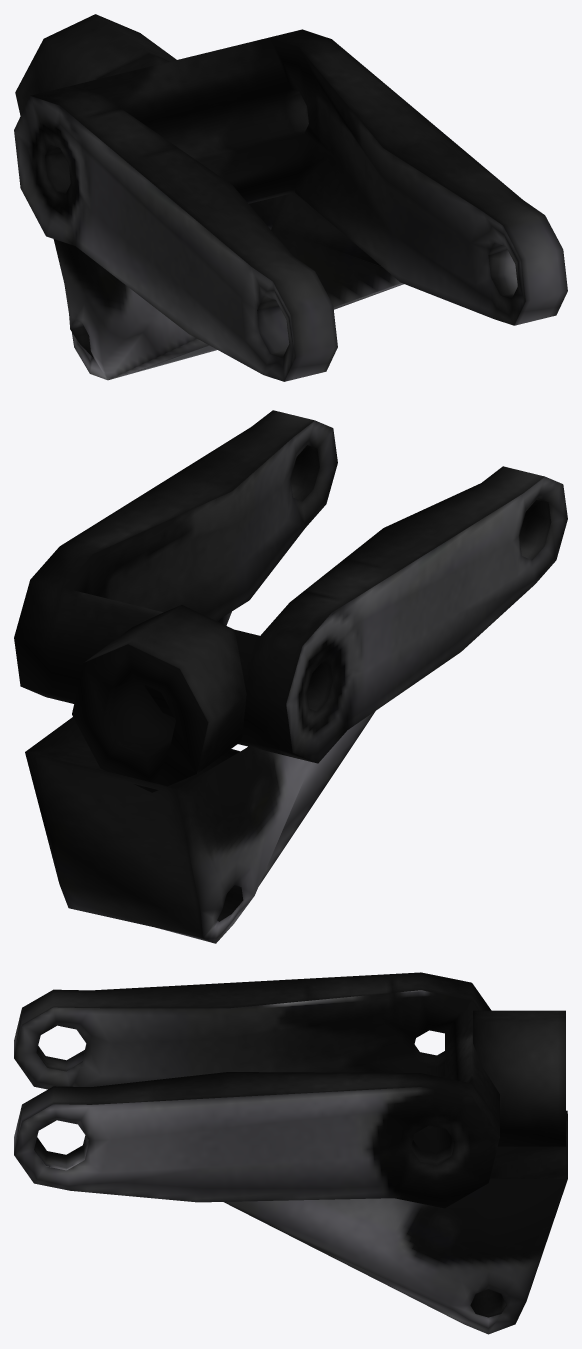
File: r_uglut.dae
The picture shows the model from 3 angles, top to bottom: view 1: azimuth 30°, elevation 25°; view 2: azimuth 150°, elevation 25°; view 3: azimuth 270°, elevation 25°; orthographic projection. The views are drawn at different scales.
Visible parts, largest first — view 1: r_uglut; view 2: r_uglut; view 3: r_uglut.
Part boxes in pixels (x1=…): r_uglut: x1=14, y1=14, x2=567, y2=381; r_uglut: x1=14, y1=410, x2=567, y2=943; r_uglut: x1=14, y1=972, x2=567, y2=1334.
Size of the model in its own units: 0.0824 by 0.0922 by 0.1684.
Materials: 1 (1 with a texture image).
